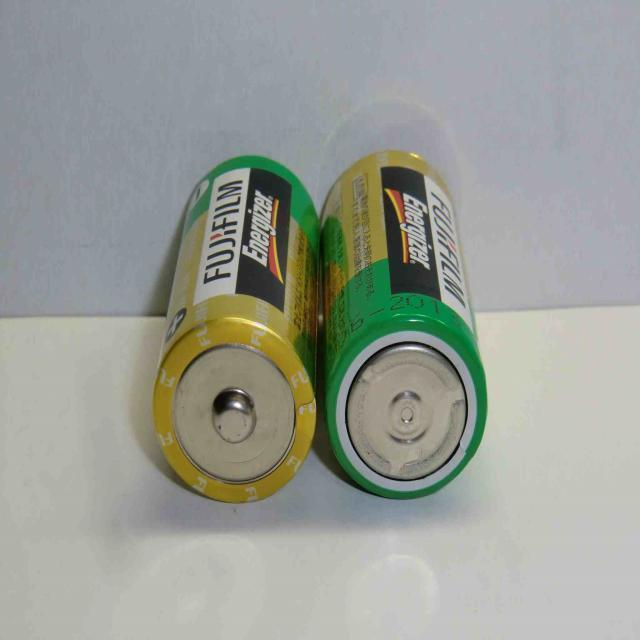Hazard: (148, 149, 322, 507), (323, 152, 489, 503)
